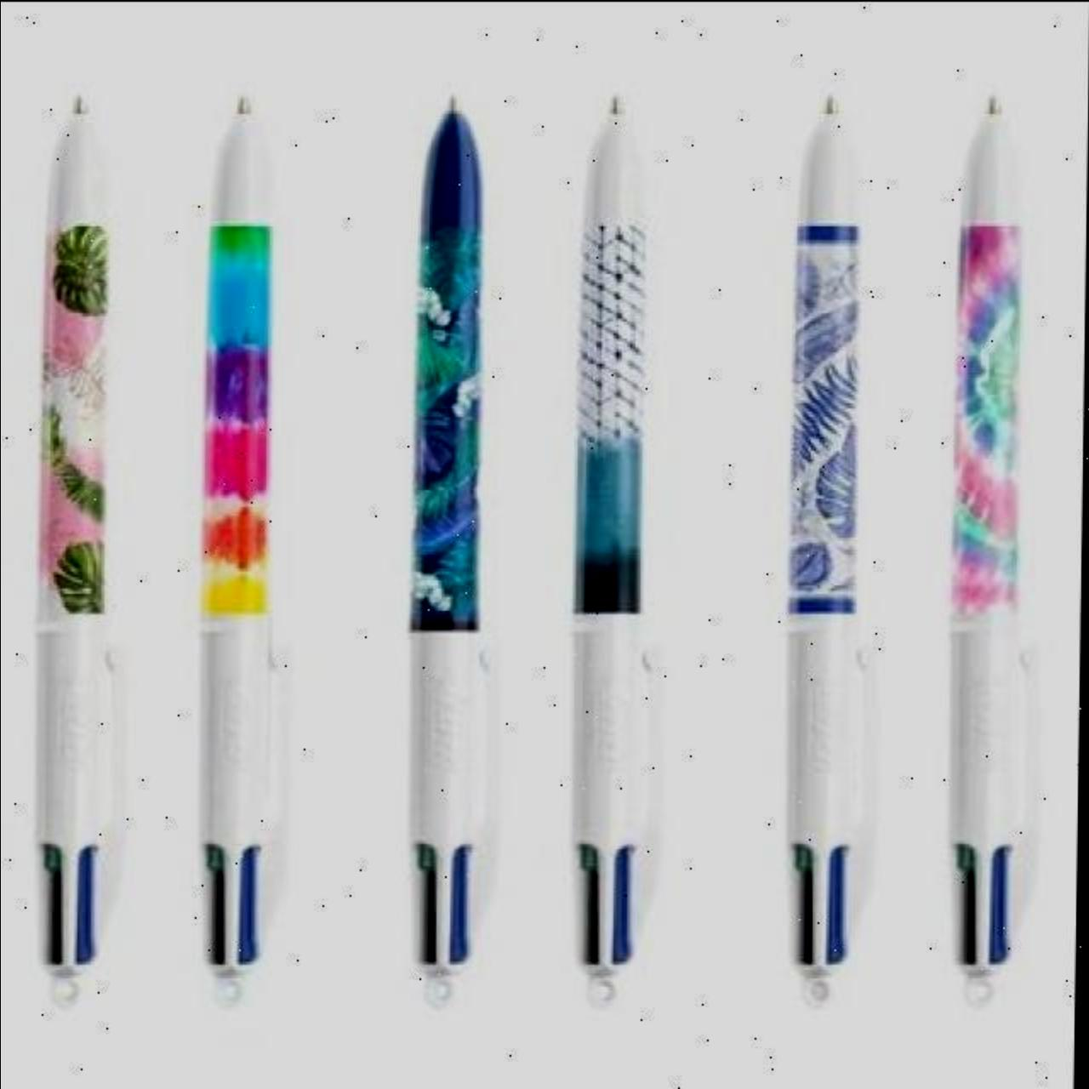pen: (560, 97, 672, 1006), (201, 78, 305, 1007), (29, 92, 133, 1001), (779, 92, 881, 1001), (948, 90, 1050, 999), (402, 105, 505, 1002)
